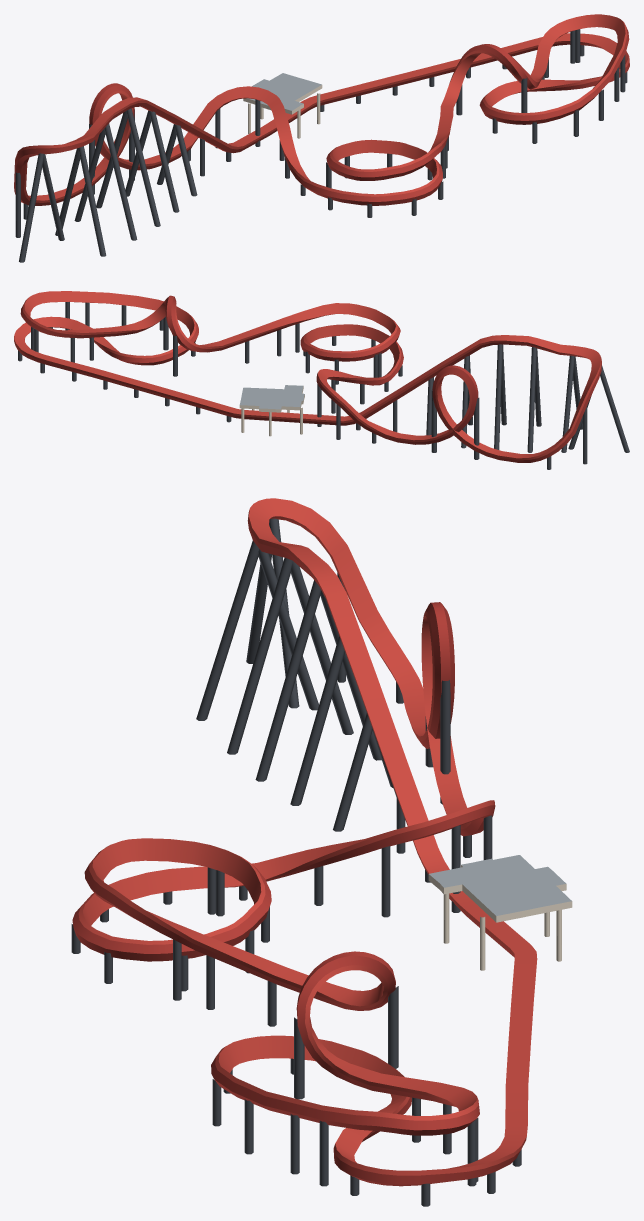
3 views of the same model, one above another, from view 1: azimuth 30°, elevation 25°; view 2: azimuth 150°, elevation 25°; view 3: azimuth 270°, elevation 25° (orthographic). The views are drawn at different scales.
Visible parts, largest first — view 1: vortex-carowinds; view 2: vortex-carowinds; view 3: vortex-carowinds.
Boxes of the visible parts, box(x1,y1,x2,y2) form: vortex-carowinds: box(14, 14, 629, 262); vortex-carowinds: box(14, 291, 629, 469); vortex-carowinds: box(71, 498, 572, 1206).
Size of the model in its own units: 162 by 27.55 by 62.02.
